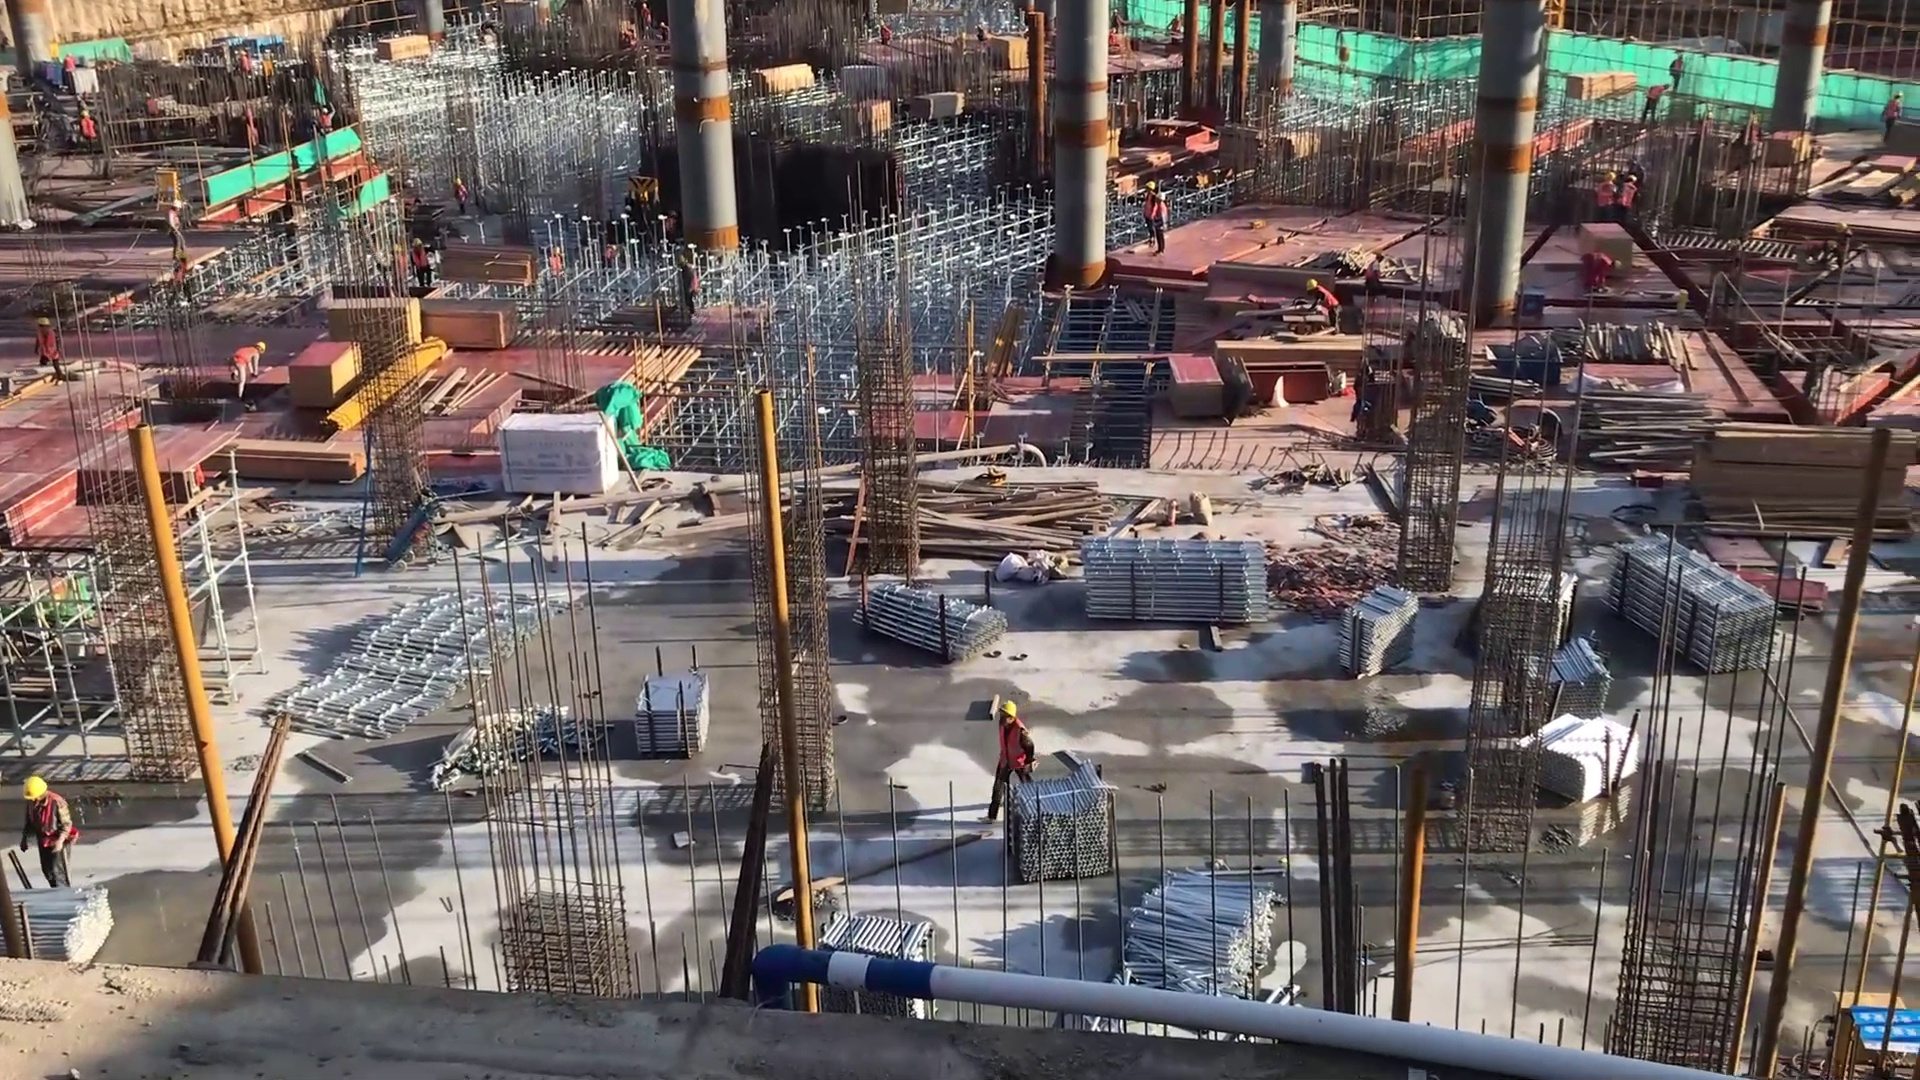board: (326, 299, 423, 355), (287, 337, 362, 408), (1727, 571, 1831, 618), (1170, 353, 1227, 423), (993, 32, 1033, 75)
ebox: (147, 169, 193, 212)
helmet: (22, 769, 61, 810), (996, 699, 1026, 728), (249, 336, 273, 355), (39, 314, 54, 336), (79, 110, 96, 124), (1607, 259, 1624, 272), (1307, 279, 1321, 294), (319, 105, 333, 119), (409, 235, 425, 246), (1145, 180, 1158, 193), (1605, 172, 1616, 184), (1156, 194, 1169, 205), (1627, 173, 1637, 184), (455, 177, 464, 187)
hook: (1481, 344, 1563, 389)
person: (18, 769, 83, 909), (979, 690, 1043, 826), (226, 337, 265, 412), (1301, 274, 1343, 345), (1575, 250, 1630, 297), (29, 318, 63, 390), (676, 247, 707, 325), (408, 229, 433, 302), (1638, 81, 1671, 130), (1875, 91, 1905, 145), (1593, 168, 1620, 230), (73, 106, 98, 170), (1364, 248, 1384, 308), (1150, 190, 1168, 258), (1666, 47, 1691, 98), (1618, 170, 1641, 225), (172, 248, 189, 314), (315, 98, 337, 148), (450, 175, 472, 222), (1142, 180, 1158, 239), (56, 49, 76, 90), (877, 18, 892, 52), (642, 3, 654, 41)
scaffold: (1605, 520, 1775, 695), (1120, 867, 1297, 1021), (1075, 534, 1277, 639), (998, 767, 1134, 884), (855, 576, 1013, 669), (1, 873, 129, 985), (1520, 627, 1601, 739), (1341, 570, 1415, 691)
slogan: (1852, 998, 1920, 1054)
vest: (30, 800, 79, 850), (994, 718, 1032, 774), (33, 329, 62, 365), (233, 341, 262, 374), (1620, 180, 1636, 213), (1597, 180, 1615, 211), (411, 248, 431, 275), (1316, 289, 1338, 311), (79, 117, 98, 140)
wood: (1687, 412, 1874, 542), (918, 474, 1111, 564), (1580, 380, 1726, 480), (217, 436, 366, 491), (1211, 337, 1369, 383), (411, 293, 521, 355), (440, 240, 535, 294), (1556, 69, 1640, 109), (749, 54, 815, 105), (379, 24, 436, 73), (912, 87, 968, 130)
